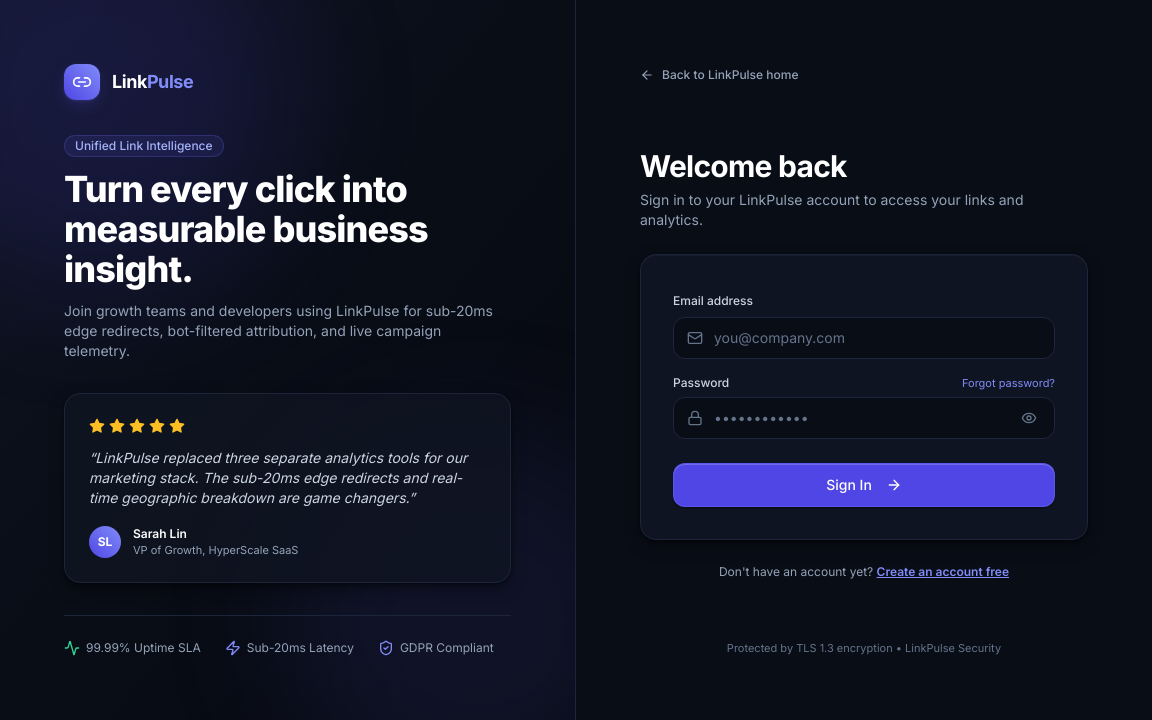
Test: Authentication Form Tests › LoginPage Component › displays error alert when login fails
Type "wrong@example.com" into the field with placeholder "you@company.com" at (864, 338), box [673,316,1055,358]
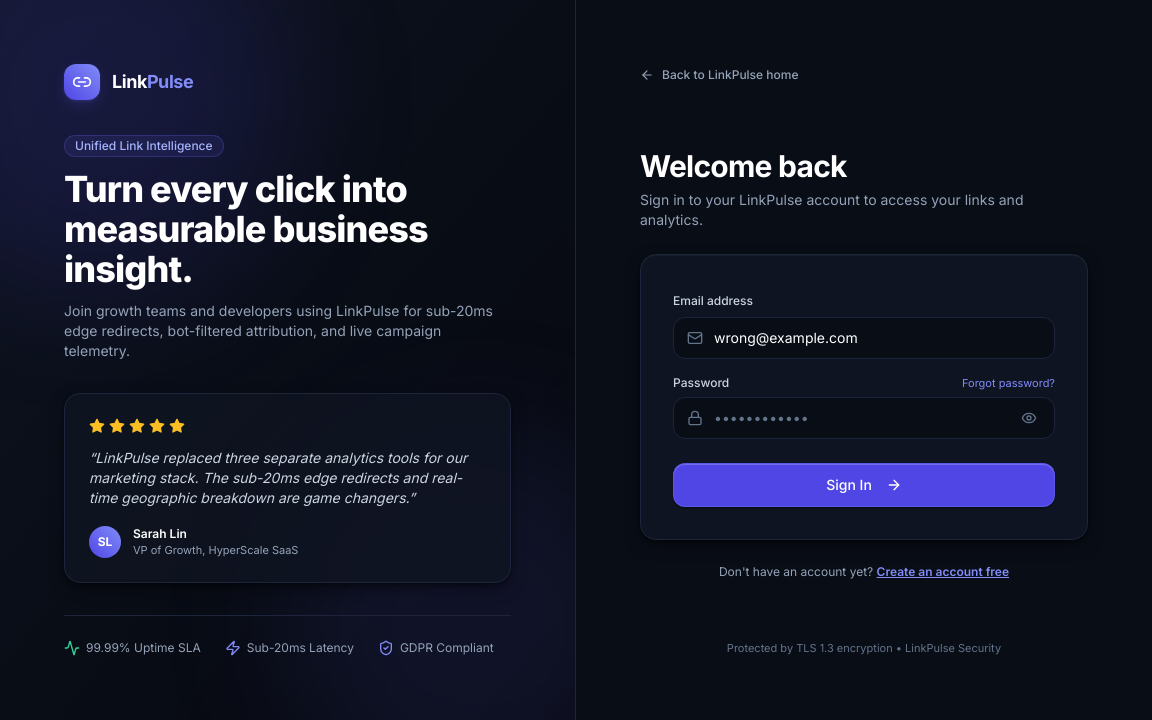
Type "WrongPass123!" into the password field with placeholder "••••••••••••" at (864, 418), box [673,397,1055,439]
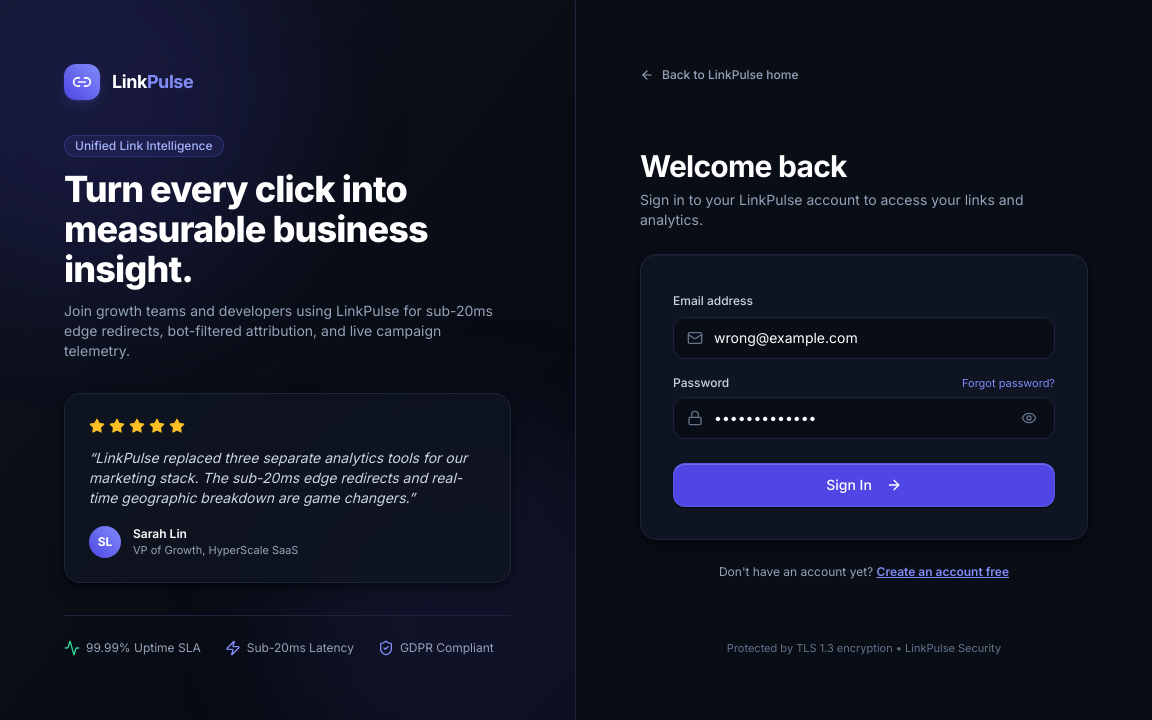
Click the button "Sign In" at (864, 485), box [673,463,1055,507]
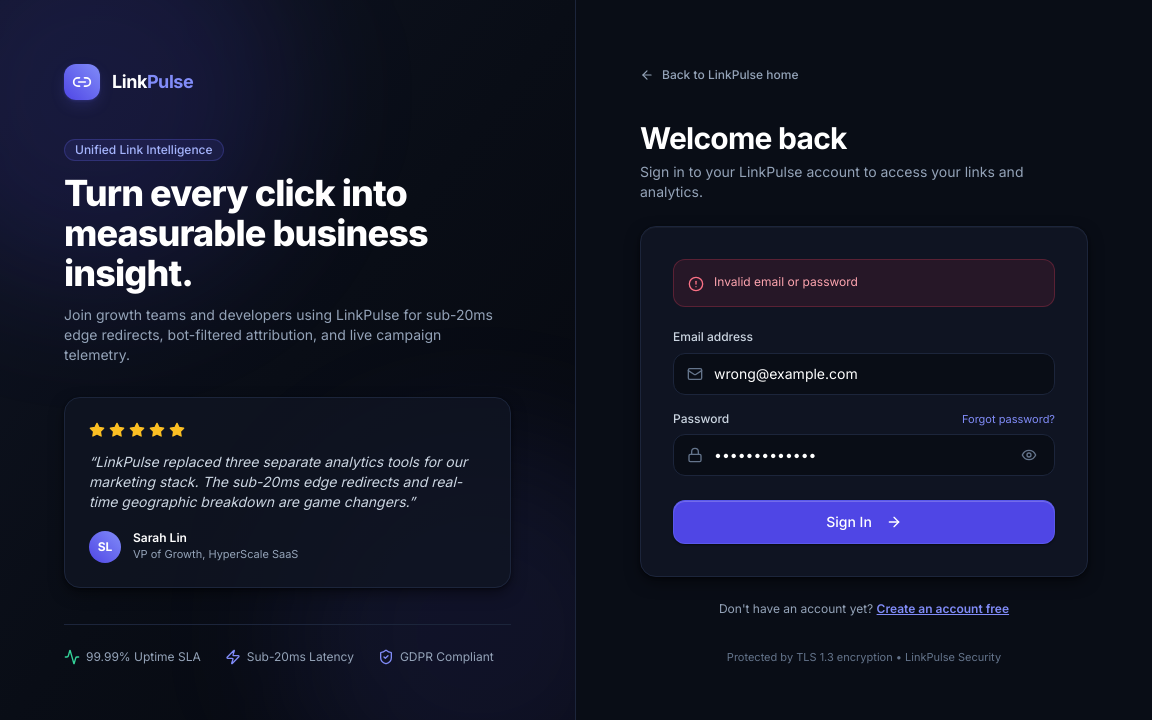
Expected: the text "Invalid email or password" is shown, [714,274,858,289]
